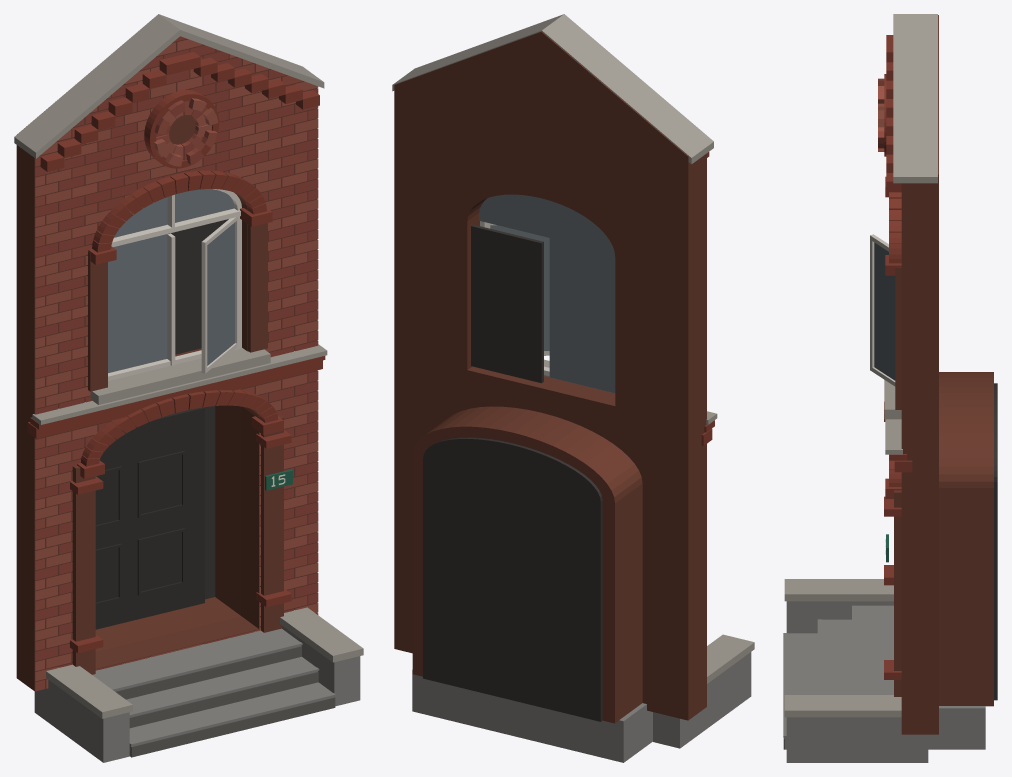
Rendered from hongkou-changyang-lane50-no15-brick-gable-lod.glb.
3 renders of one model, left to right at view 1: azimuth 30°, elevation 25°; view 2: azimuth 150°, elevation 25°; view 3: azimuth 270°, elevation 25°, orthographic. The views are drawn at different scales.
Visible parts, largest first — view 1: 长阳路50弄15号圆饰山墙与双层砖券门面; view 2: 长阳路50弄15号圆饰山墙与双层砖券门面; view 3: 长阳路50弄15号圆饰山墙与双层砖券门面.
Part boxes in pixels (bbox=[...]): 长阳路50弄15号圆饰山墙与双层砖券门面: bbox=[14, 14, 363, 762]; 长阳路50弄15号圆饰山墙与双层砖券门面: bbox=[392, 14, 754, 762]; 长阳路50弄15号圆饰山墙与双层砖券门面: bbox=[783, 14, 997, 762].
Size of the model in its own units: 3.2 by 7.04 by 2.
